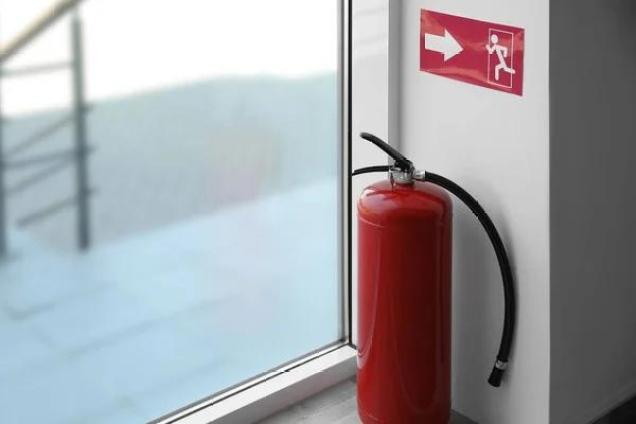APAR: (350, 131, 452, 423)
